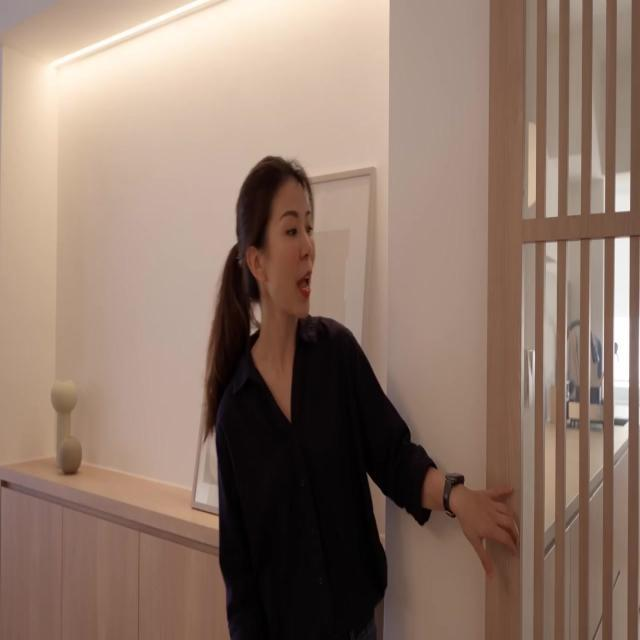person: (202, 153, 520, 640)
